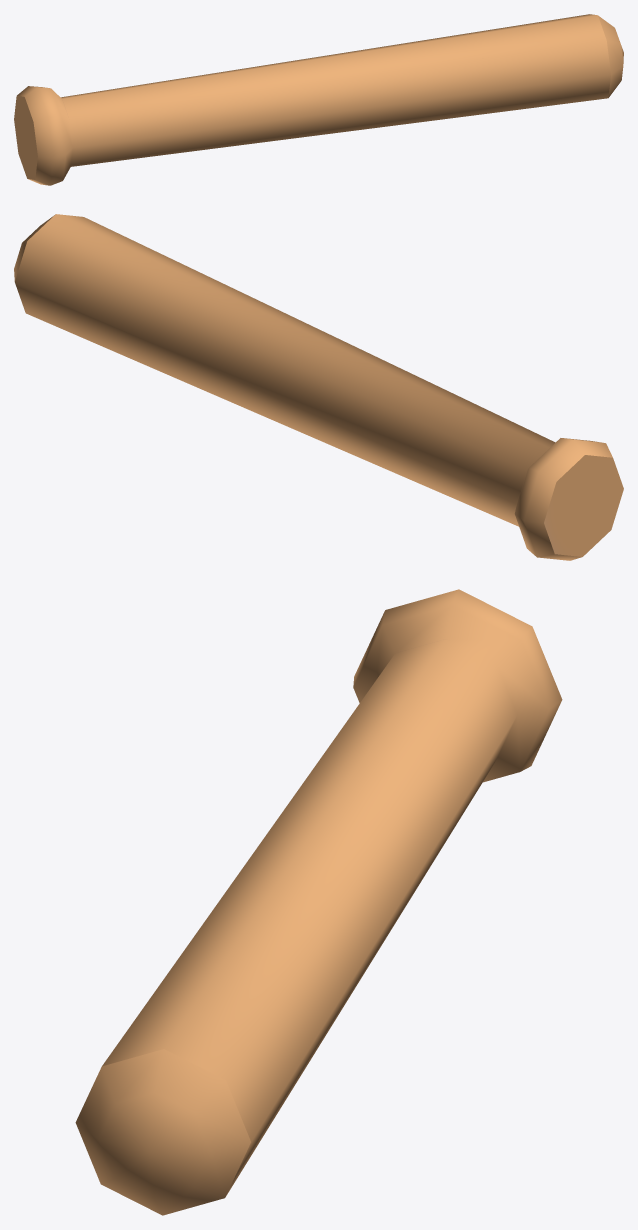
Rendered from baseball bat exp resend.fbx.
3 views of the same model, one above another, from view 1: azimuth 30°, elevation 25°; view 2: azimuth 150°, elevation 25°; view 3: azimuth 270°, elevation 25° (orthographic). The views are drawn at different scales.
Parts seen in each view (by area): view 1: Cylinder009; view 2: Cylinder009; view 3: Cylinder009.
Boxes of the visible parts, bbox=[...] form: Cylinder009: bbox=[14, 14, 623, 185]; Cylinder009: bbox=[14, 214, 623, 560]; Cylinder009: bbox=[75, 589, 562, 1215].
Bounding box in the file's own units: 22.6 × 4.28 × 9.
